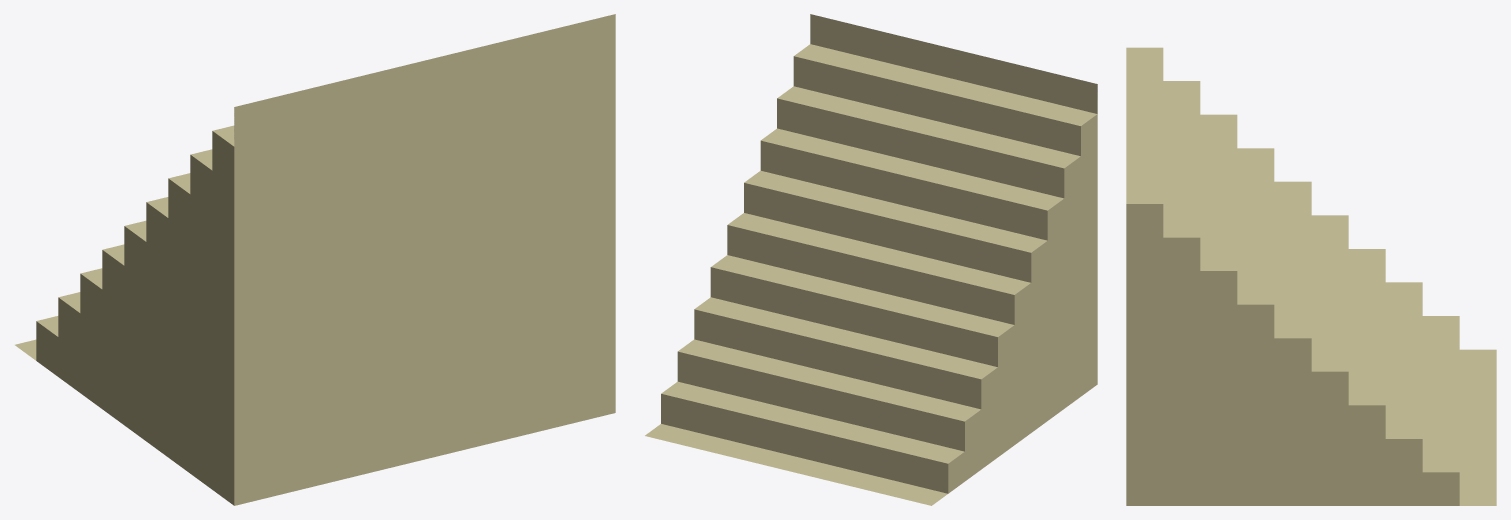
File: stair1.fbx
The picture shows the model from 3 angles, left to right: view 1: azimuth 30°, elevation 25°; view 2: azimuth 150°, elevation 25°; view 3: azimuth 270°, elevation 25°; orthographic projection. The views are drawn at different scales.
Parts seen in each view (by area): view 1: Cube.494; view 2: Cube.494; view 3: Cube.494.
Part boxes in pixels (left/top/right/bottom): Cube.494: left=15, top=14, right=615, bottom=505; Cube.494: left=645, top=14, right=1097, bottom=505; Cube.494: left=1126, top=47, right=1496, bottom=505.
Size of the model in its own units: 200 by 200 by 200.
